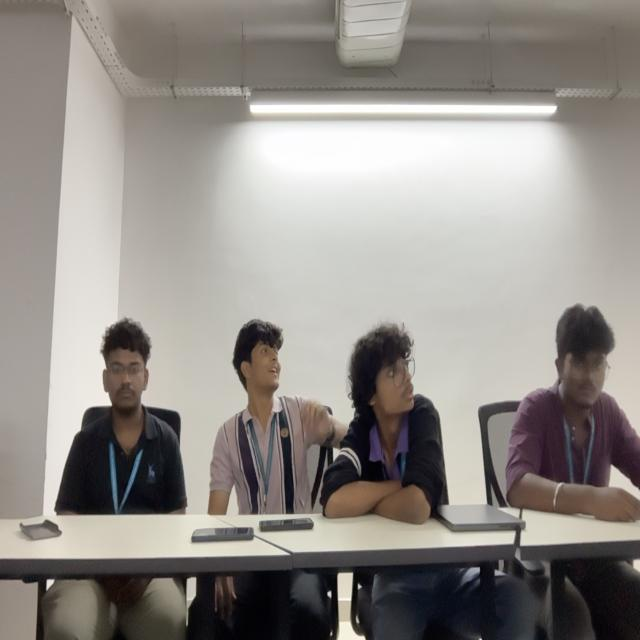Isolated: (505, 304, 640, 521), (58, 317, 187, 520)
socializing: (208, 323, 449, 520)
